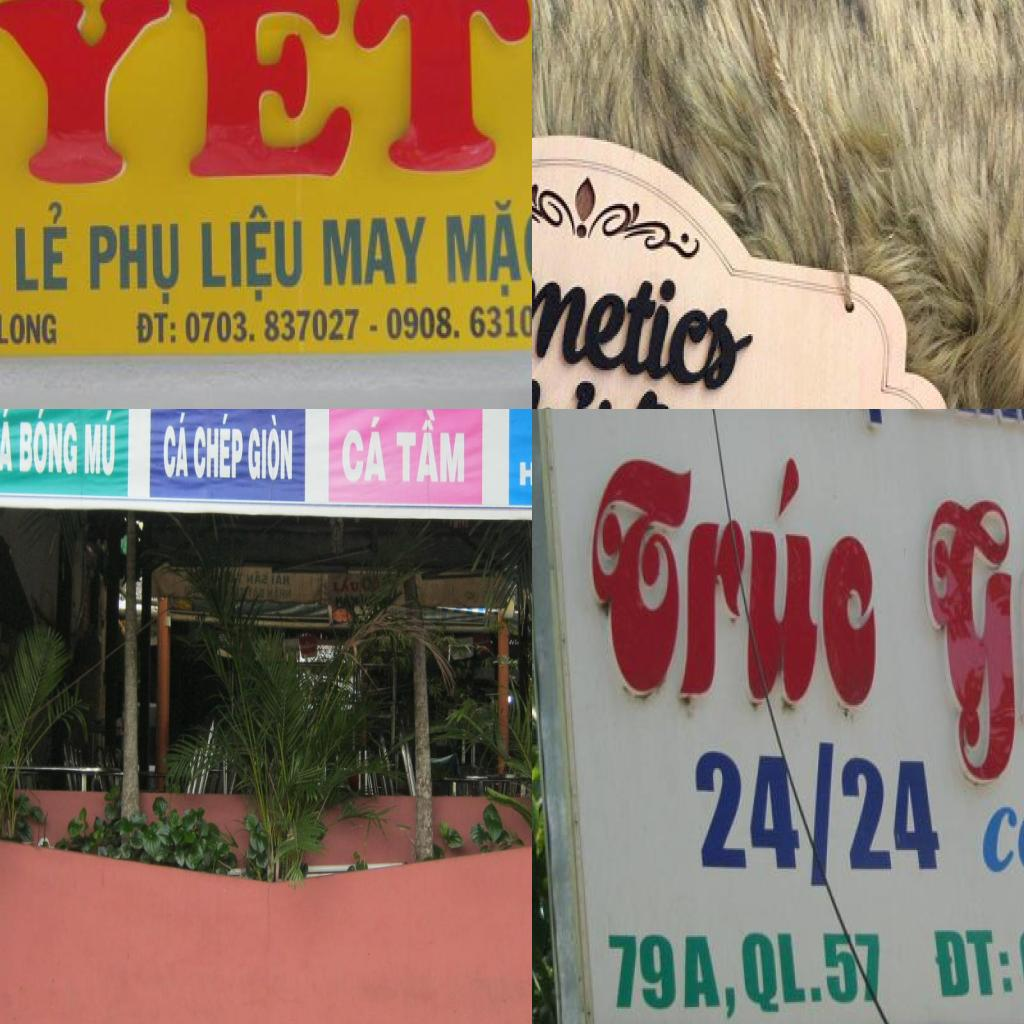text: (0, 0, 532, 199), (588, 437, 880, 719), (532, 218, 762, 406), (692, 737, 944, 891), (926, 488, 1024, 797), (606, 930, 884, 1022), (198, 198, 306, 306), (441, 196, 532, 298), (85, 217, 184, 309), (319, 212, 432, 292), (184, 304, 362, 347), (930, 924, 1018, 1004), (392, 409, 468, 488), (14, 194, 74, 294), (16, 409, 82, 479), (532, 359, 623, 409), (979, 783, 1024, 878), (192, 409, 246, 485), (338, 410, 389, 486), (246, 412, 295, 485), (0, 307, 63, 349), (82, 409, 117, 477), (162, 409, 190, 481), (135, 310, 180, 346), (0, 409, 15, 475), (330, 574, 360, 596), (517, 459, 532, 489), (367, 319, 382, 333)
